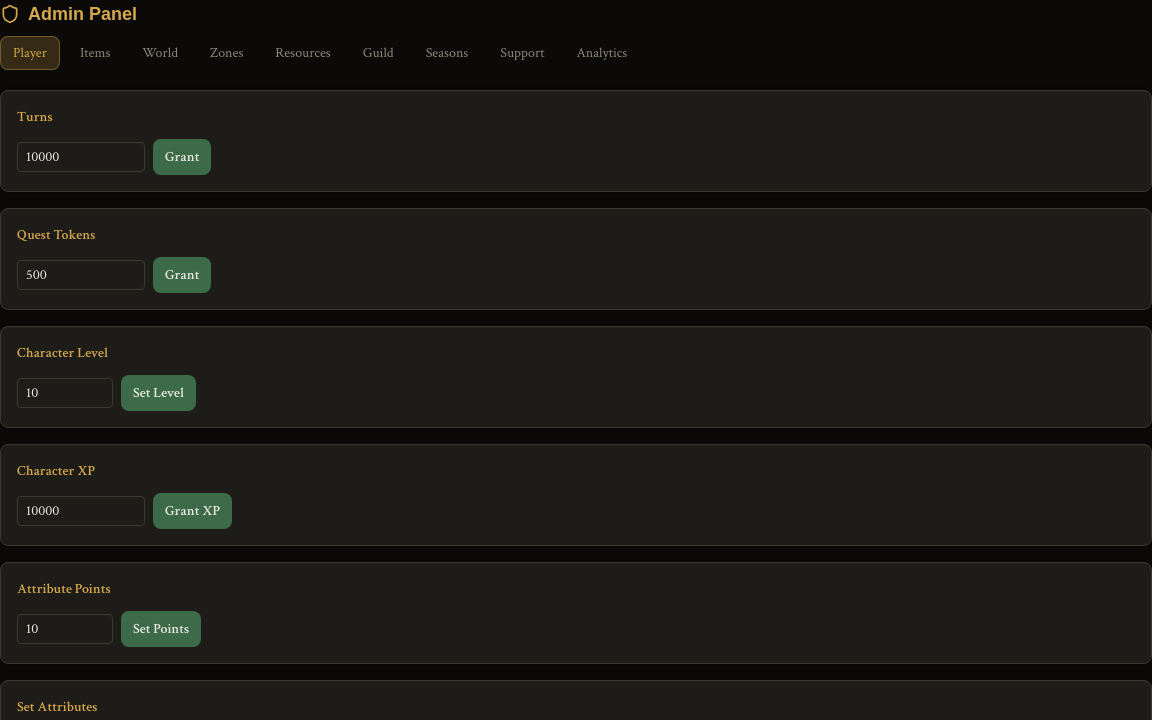
Test case: AdminScreen seasons tab › refreshes the list after activating a season
Click the button "Seasons".
click(447, 53)  # box [414,36,480,70]
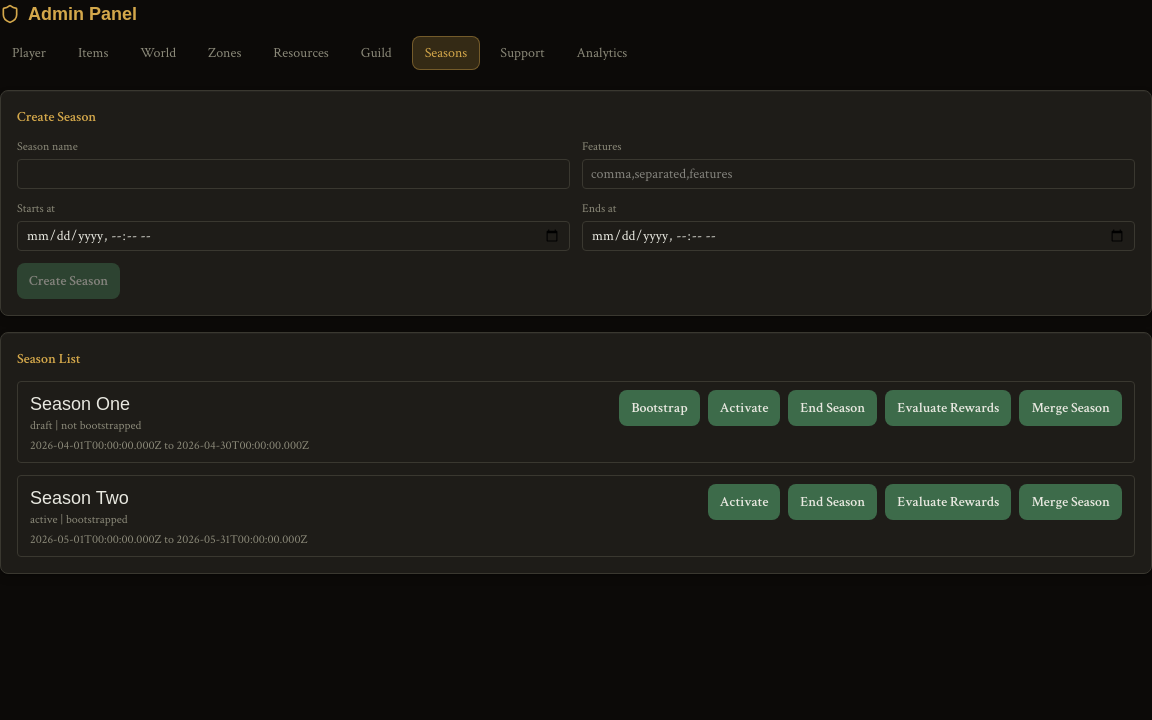
Now the heading "Create Season" is shown, box [17,108,96,126]
Click the button "Activate" in the row of "not bootstrapped".
click(744, 408)  # box [708,390,780,426]
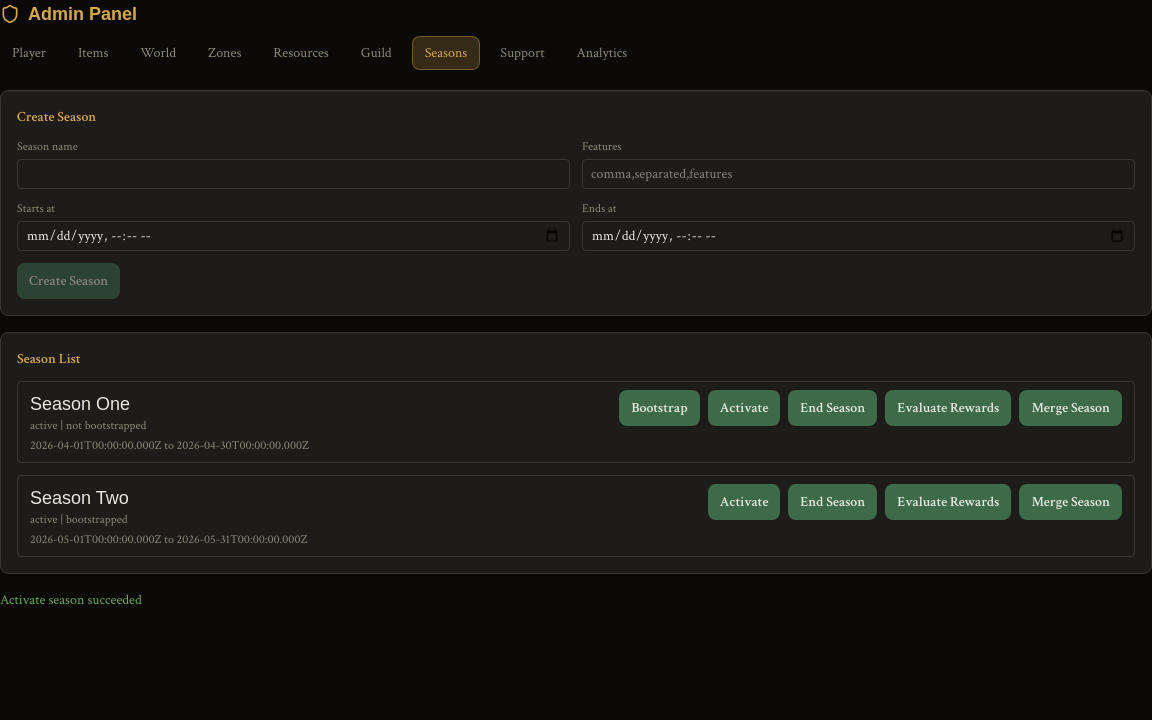
Now the element with test id "season-row-season-1" shows "active", box [30,418,58,433]
